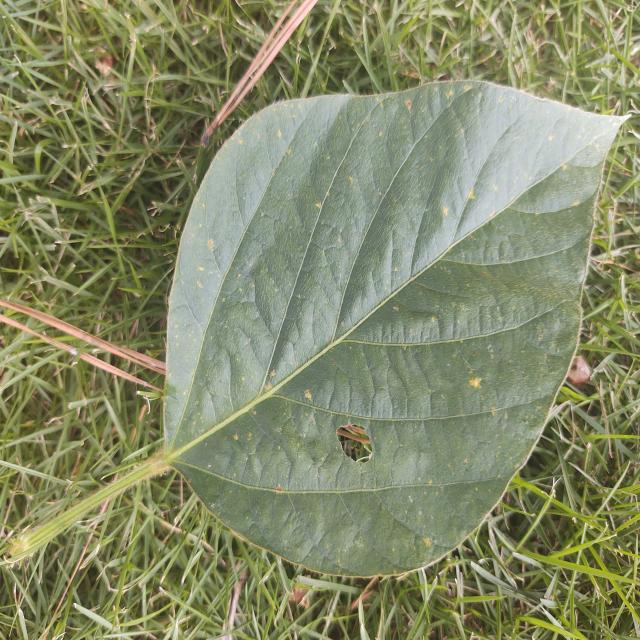Soybean: (161, 78, 628, 581)
downey_mildew: (276, 94, 401, 361), (400, 83, 512, 265), (436, 216, 598, 335), (338, 463, 484, 567), (261, 213, 347, 383), (422, 321, 559, 421), (407, 308, 510, 440), (230, 99, 313, 246), (178, 306, 256, 438), (452, 194, 602, 260), (307, 510, 429, 580), (332, 276, 438, 353), (494, 150, 609, 216), (246, 484, 323, 563), (561, 122, 628, 170)
